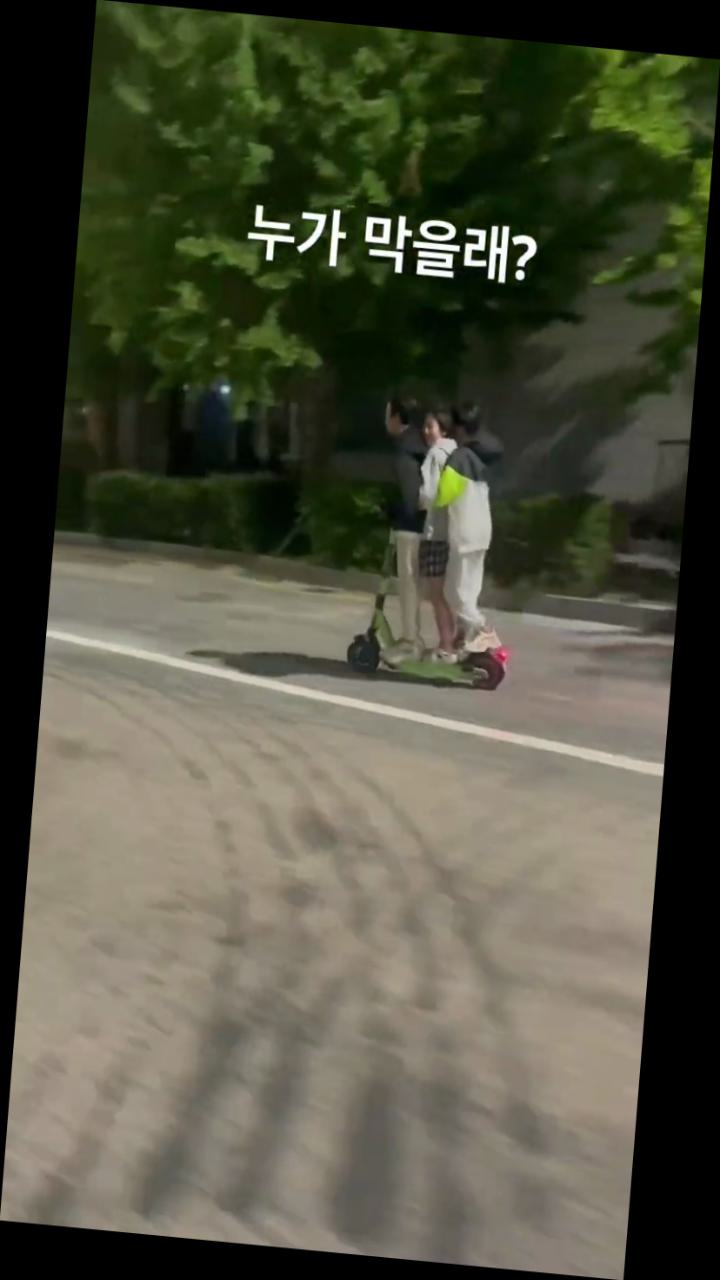multiple: (330, 379, 541, 700)
